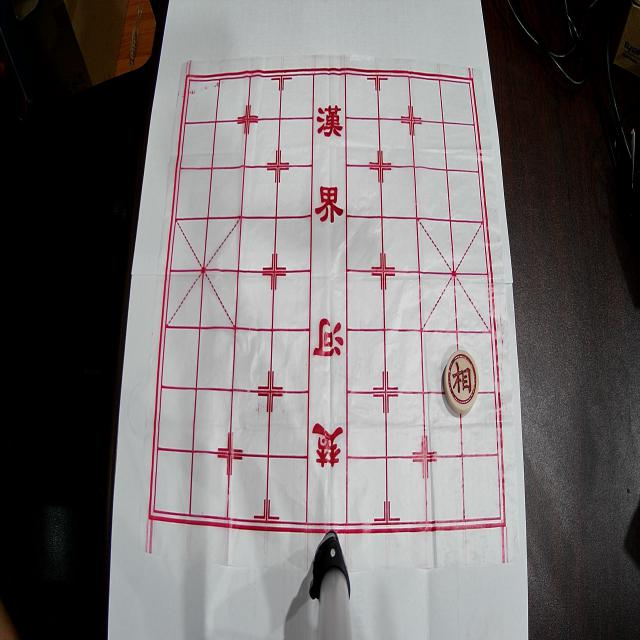red-elephant: (444, 350, 479, 414)
